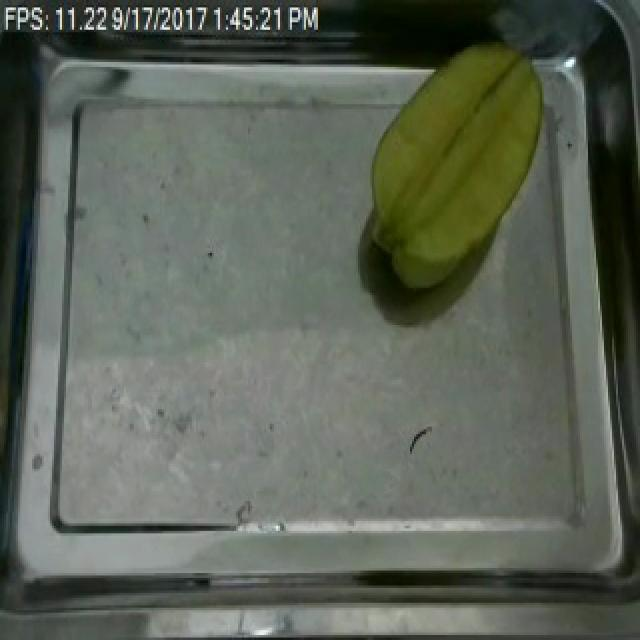fruit: (354, 32, 556, 305)
